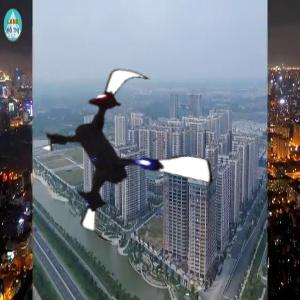drone: (35, 65, 218, 248)
